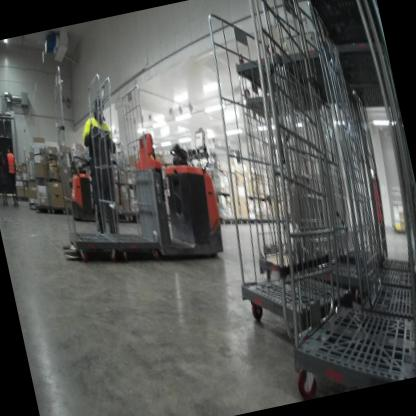pallet_truck: (35, 103, 244, 300), (45, 120, 159, 242)
